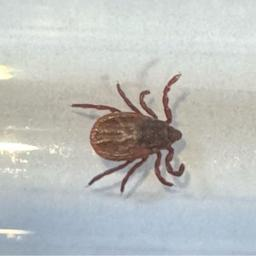Rhipicephalus sanguineus: (70, 72, 186, 193)
